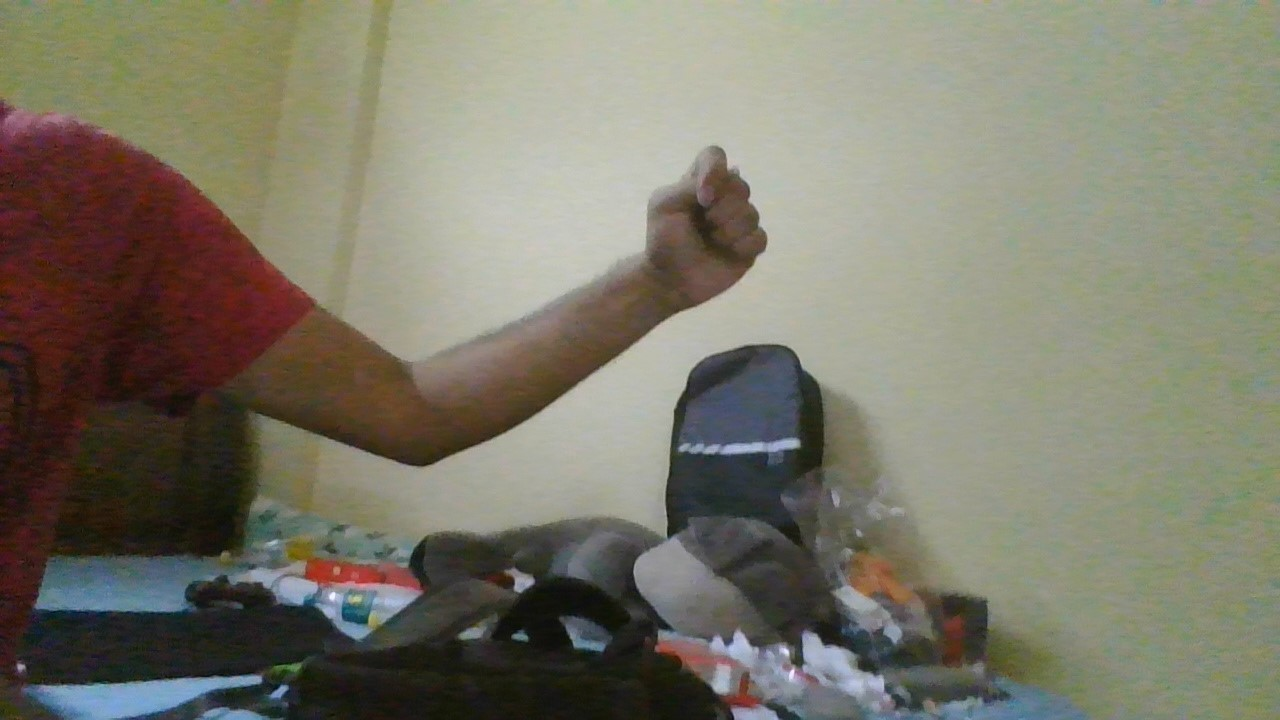t: (642, 141, 776, 310)
